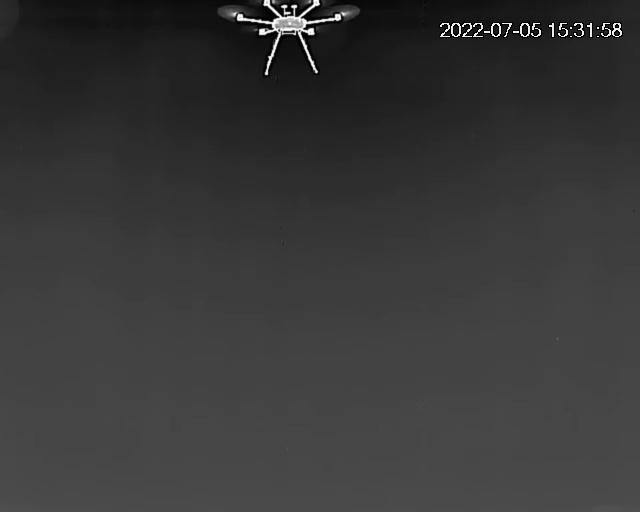DJI-Phantom: (216, 0, 362, 75)
